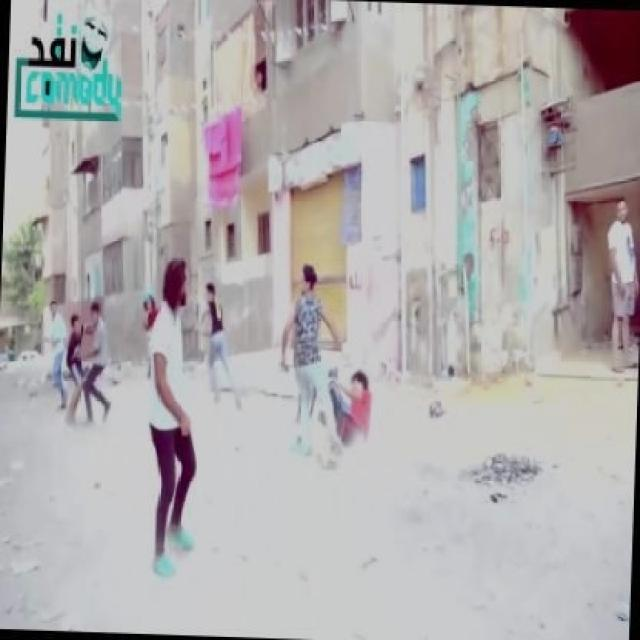fight: (279, 255, 375, 486)
non-fight: (138, 249, 203, 575)
